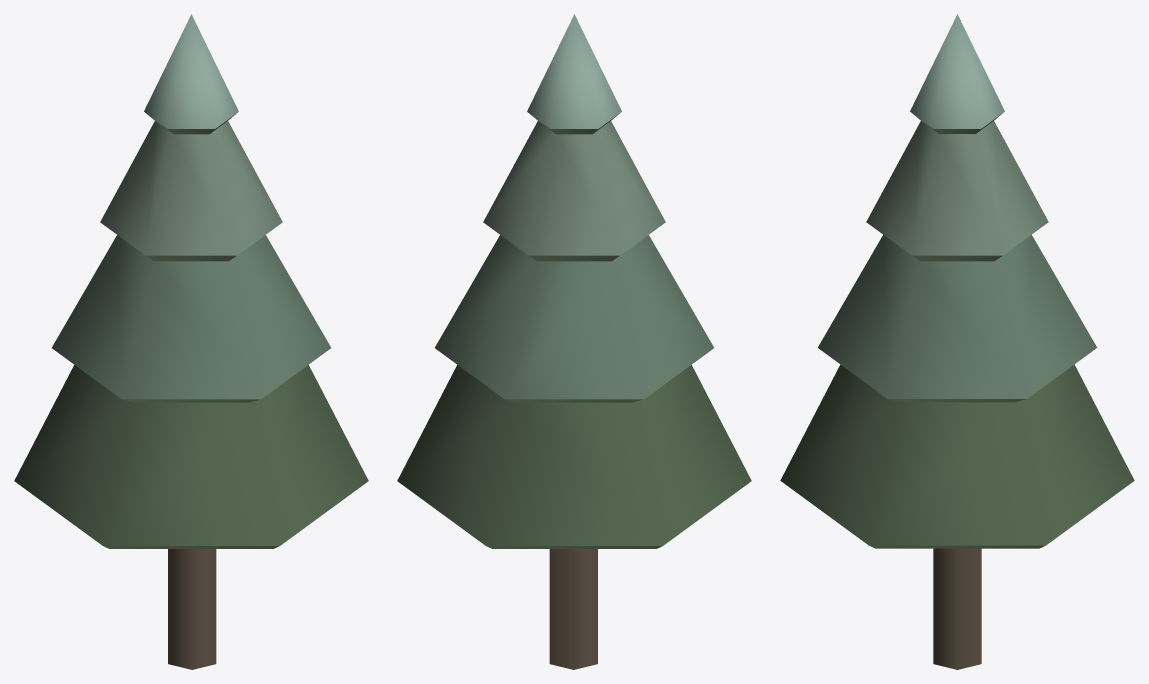
File: RW_HG_Environment_Tree_Pine.001.fbx
3 renders of one model, left to right at view 1: azimuth 30°, elevation 25°; view 2: azimuth 150°, elevation 25°; view 3: azimuth 270°, elevation 25°, orthographic.
Visible parts, largest first — view 1: RW_HG_Environment_Tree_Pine.001; view 2: RW_HG_Environment_Tree_Pine.001; view 3: RW_HG_Environment_Tree_Pine.001.
Boxes of the visible parts, <box> form: RW_HG_Environment_Tree_Pine.001: <box>14,14,368,669</box>; RW_HG_Environment_Tree_Pine.001: <box>397,14,751,669</box>; RW_HG_Environment_Tree_Pine.001: <box>780,14,1134,669</box>.
Bounding box in the file's own units: 0.5127 × 1.19 × 0.592.
